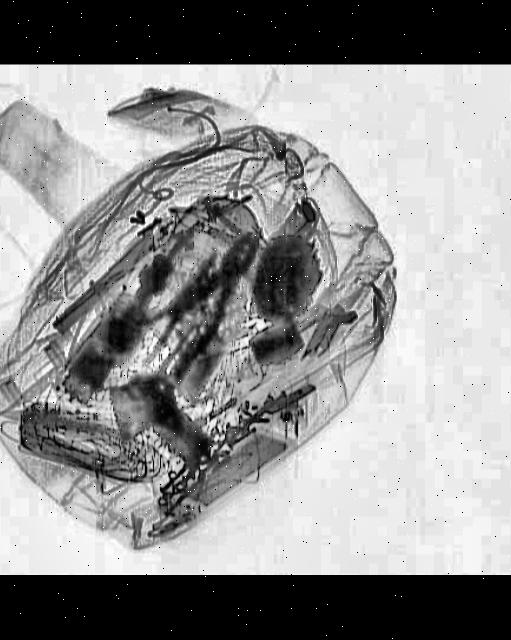Pliers: (132, 220, 282, 378)
